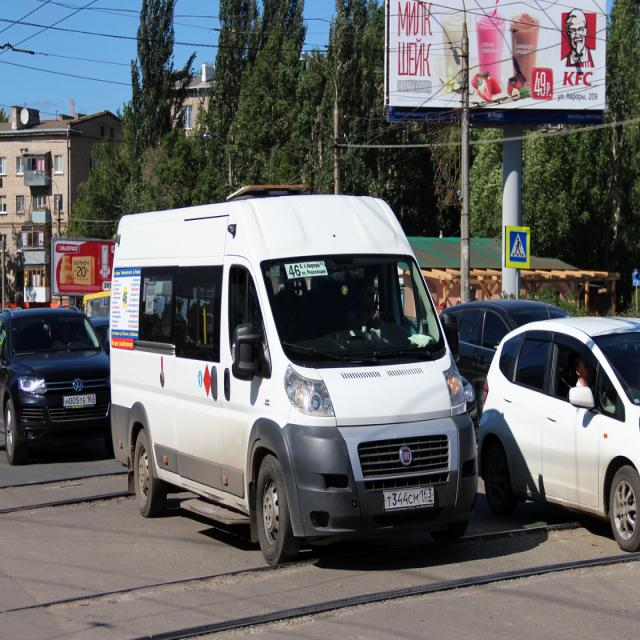number-of-bus: (289, 264, 302, 279)
